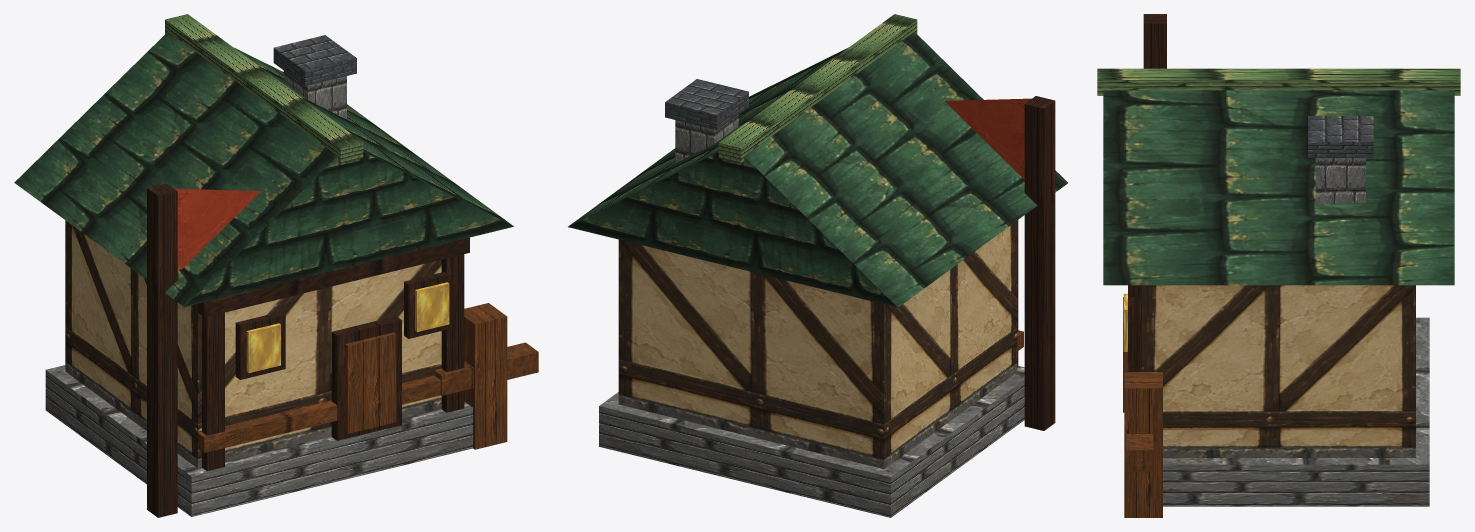
The model's file is Trainer.fbx.
3 renders of one model, left to right at view 1: azimuth 30°, elevation 25°; view 2: azimuth 150°, elevation 25°; view 3: azimuth 270°, elevation 25°, orthographic. The views are drawn at different scales.
Parts seen in each view (by area): view 1: Trainer; view 2: Trainer; view 3: Trainer.
Boxes of the visible parts, bbox=[...] form: Trainer: bbox=[14, 14, 538, 517]; Trainer: bbox=[568, 14, 1067, 517]; Trainer: bbox=[1097, 14, 1460, 517].
Size of the model in its own units: 115 by 103 by 94.
